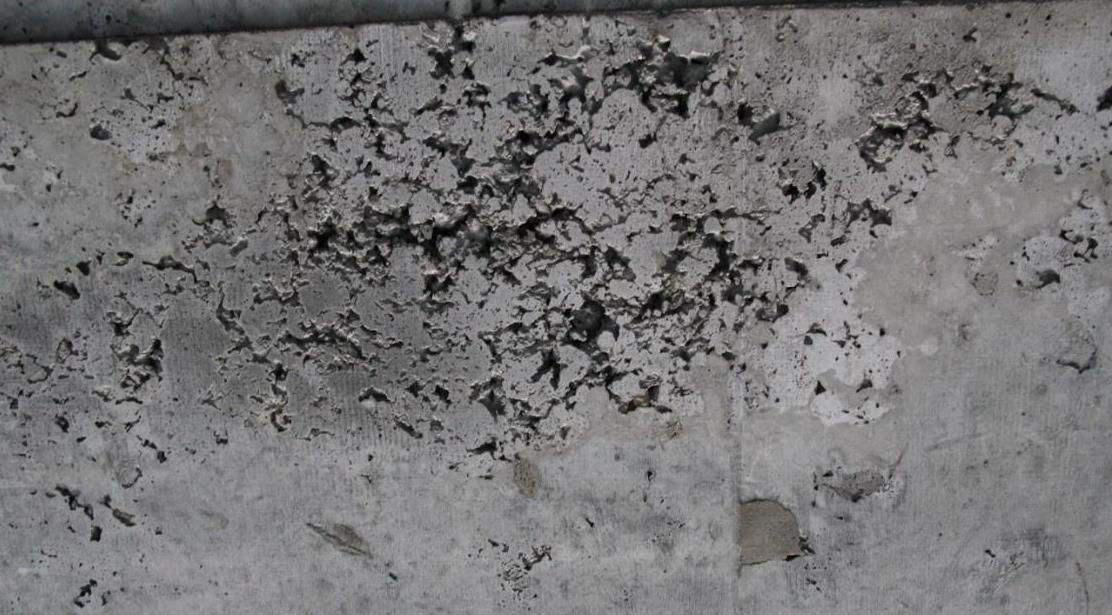Spalling: (1, 1, 1112, 484), (1, 484, 163, 610), (466, 538, 553, 611), (785, 535, 822, 594)
